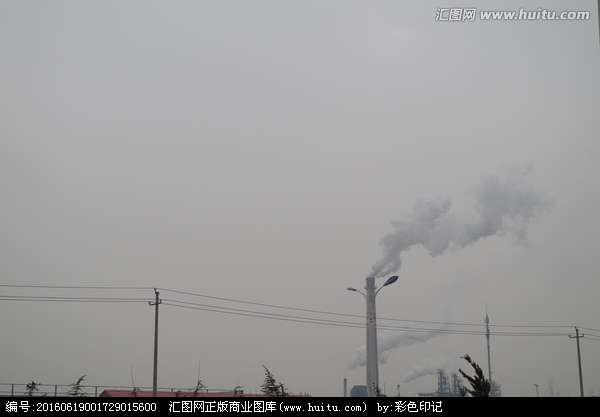dust: (359, 194, 485, 294)
